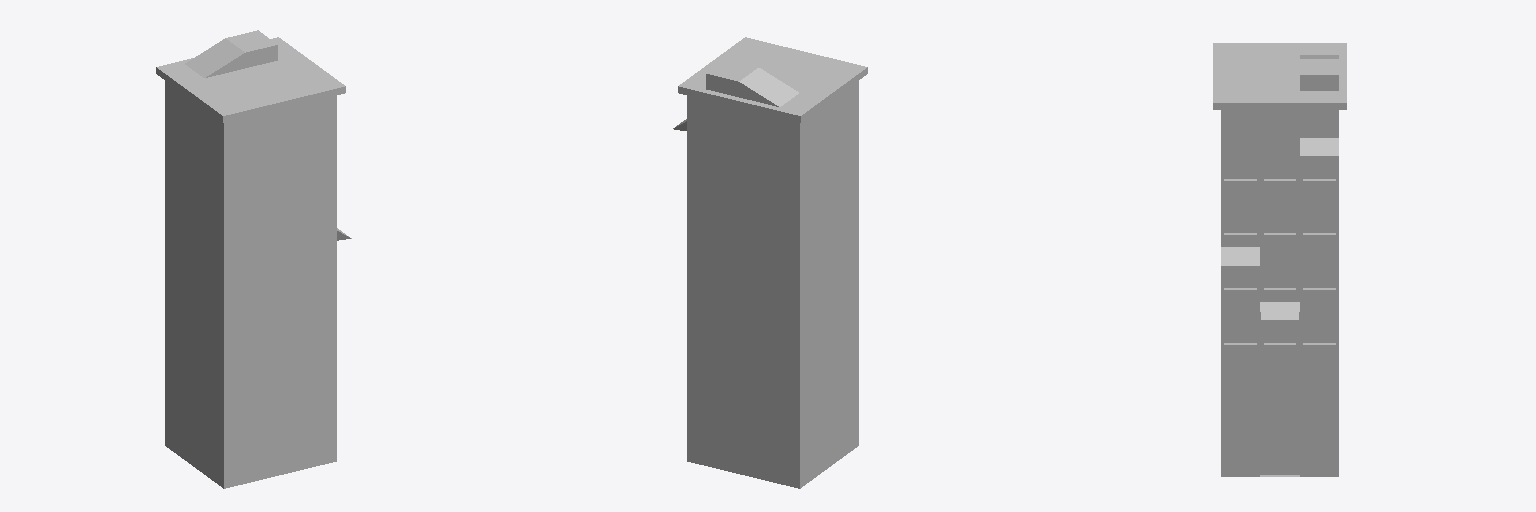
File: tall_house_2.obj
The picture shows the model from 3 angles: view 1: azimuth 30°, elevation 25°; view 2: azimuth 150°, elevation 25°; view 3: azimuth 270°, elevation 25°; orthographic projection.
Parts seen in each view (by area): view 1: Building9; view 2: Building9; view 3: Building9.
Boxes of the visible parts, <box> form: Building9: <box>156,30,351,488</box>; Building9: <box>673,37,867,488</box>; Building9: <box>1213,43,1346,476</box>.
Bounding box in the file's own units: 4.13 × 11.69 × 3.63.